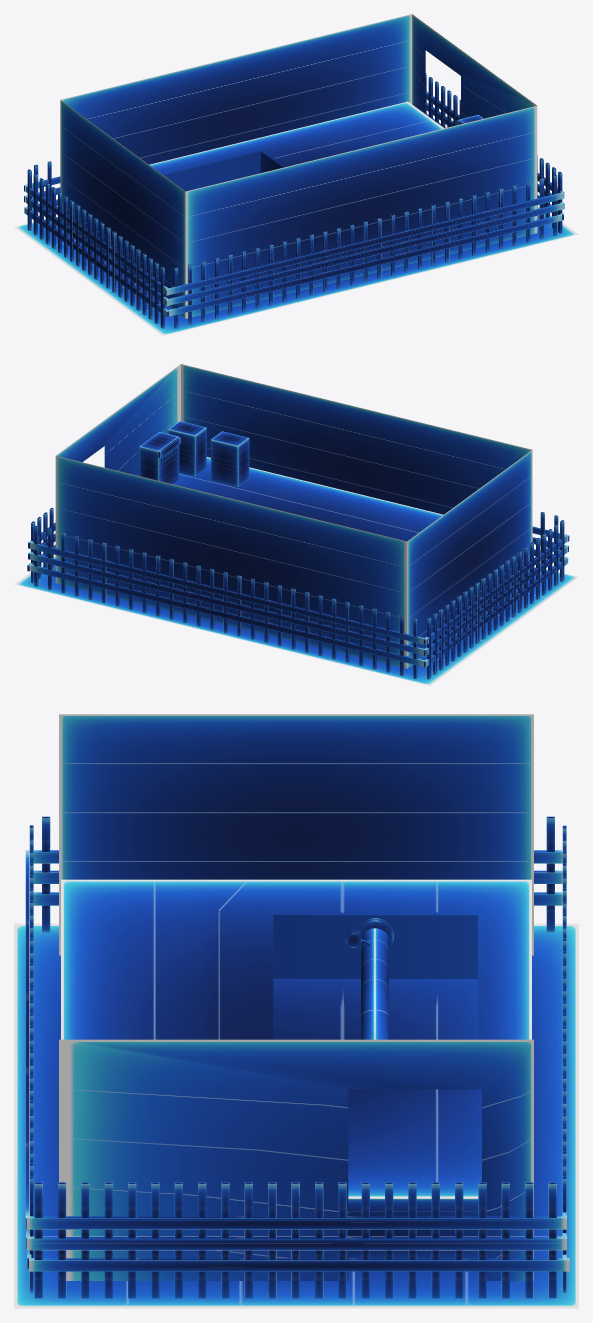
The model's file is syj.gltf.
3 renders of one model, top to bottom at view 1: azimuth 30°, elevation 25°; view 2: azimuth 150°, elevation 25°; view 3: azimuth 270°, elevation 25°, orthographic. The views are drawn at different scales.
Parts seen in each view (by area): view 1: 立方体.3; view 2: 立方体.3; view 3: 立方体.3.
Boxes of the visible parts, bbox=[...] form: 立方体.3: bbox=[14, 14, 578, 335]; 立方体.3: bbox=[14, 364, 578, 685]; 立方体.3: bbox=[14, 714, 578, 1308].
Size of the model in its own units: 1.33 by 0.3971 by 0.8266.
1 material, 1 textured.
